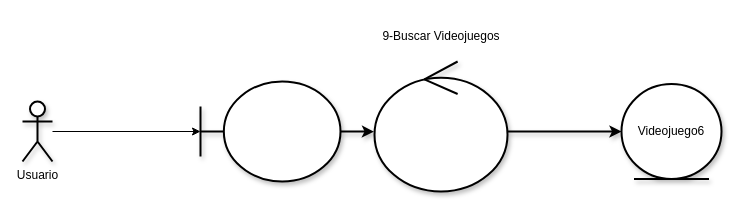
This 746x216 diagram has some shape labels left out. Each missing label, with the centre of its shape:
"BuscarAction" belongs at point 441,127.
"BuscarUi" belongs at point 271,132.
